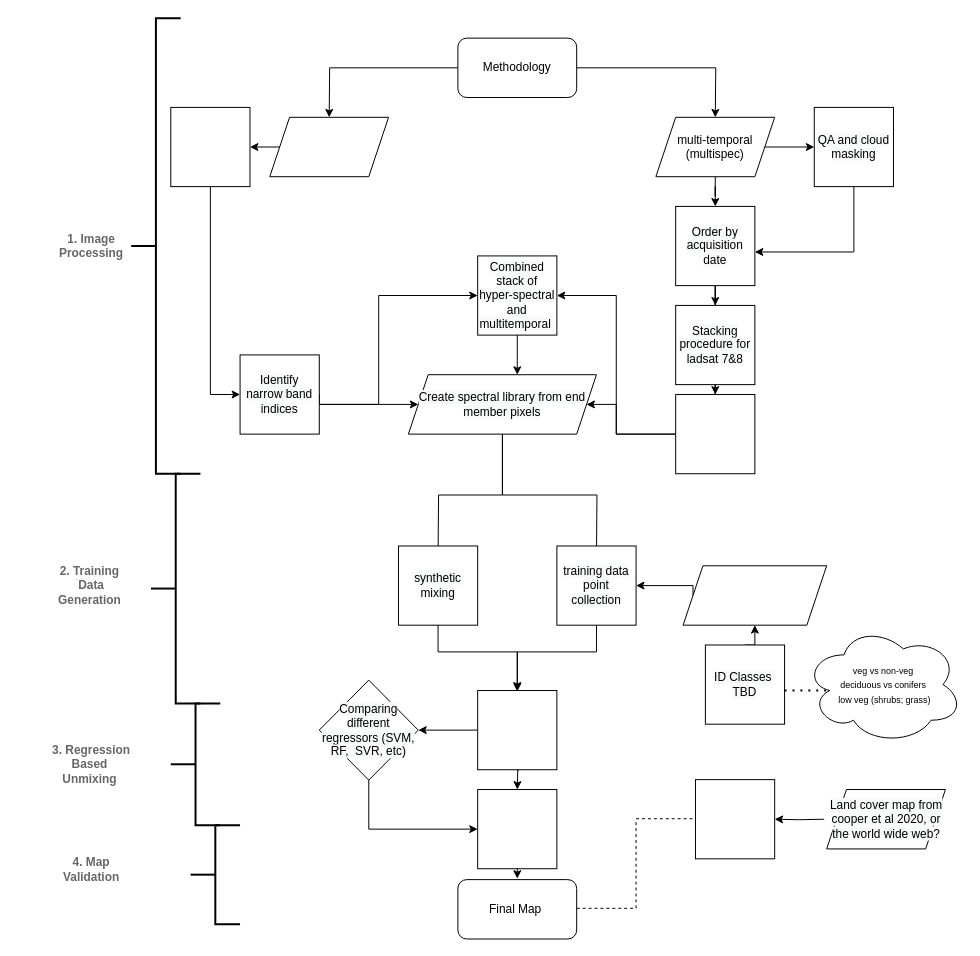
Image size: 980x956. Some labels were removed from this diagram. The centre of each missing label's shape, as x and y in pixels:
class fraction estimates: point (517, 829)
external data validation: point (734, 819)
Hyperspectral: point (329, 146)
Image processing done: point (210, 146)
Reducing the stack into spectral-temporal metrics: point (715, 434)
regression model training: point (517, 730)
Use land cover shp to inform classification: point (754, 595)
